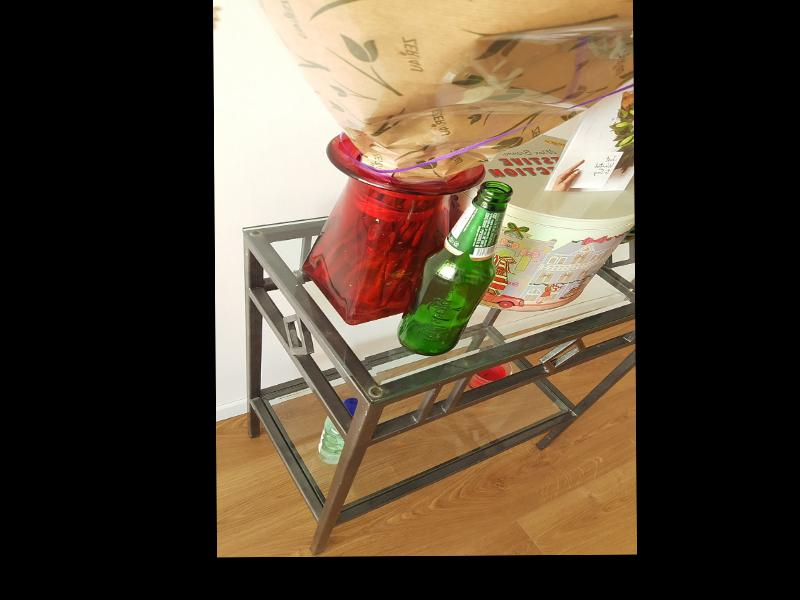Beer: (396, 180, 511, 355)
